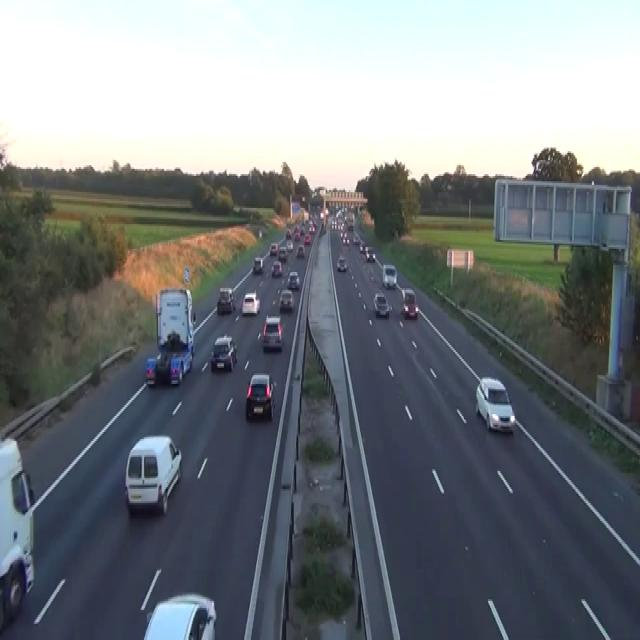Car: (124, 434, 182, 516), (143, 592, 216, 638), (475, 377, 515, 434), (245, 372, 275, 419), (210, 334, 237, 372), (156, 350, 182, 386), (261, 315, 283, 350), (216, 286, 235, 313), (401, 288, 418, 318), (241, 290, 260, 314), (373, 292, 392, 316), (382, 263, 397, 288), (169, 356, 182, 384), (145, 357, 157, 386), (279, 288, 293, 311), (287, 270, 300, 290), (252, 256, 263, 274), (271, 260, 282, 278), (336, 254, 346, 270), (365, 246, 375, 262), (277, 246, 287, 260), (296, 245, 305, 258), (269, 242, 277, 256), (342, 233, 350, 245), (285, 240, 293, 251), (308, 222, 315, 233), (359, 240, 365, 252), (352, 233, 359, 243), (365, 246, 373, 254), (233, 204, 240, 213), (304, 233, 310, 243), (285, 228, 291, 238), (299, 226, 305, 236), (321, 221, 326, 231), (294, 231, 299, 240), (258, 228, 262, 238), (319, 210, 324, 218), (331, 219, 335, 229), (325, 208, 328, 217)
Truck: (0, 436, 35, 631), (151, 286, 196, 384)
